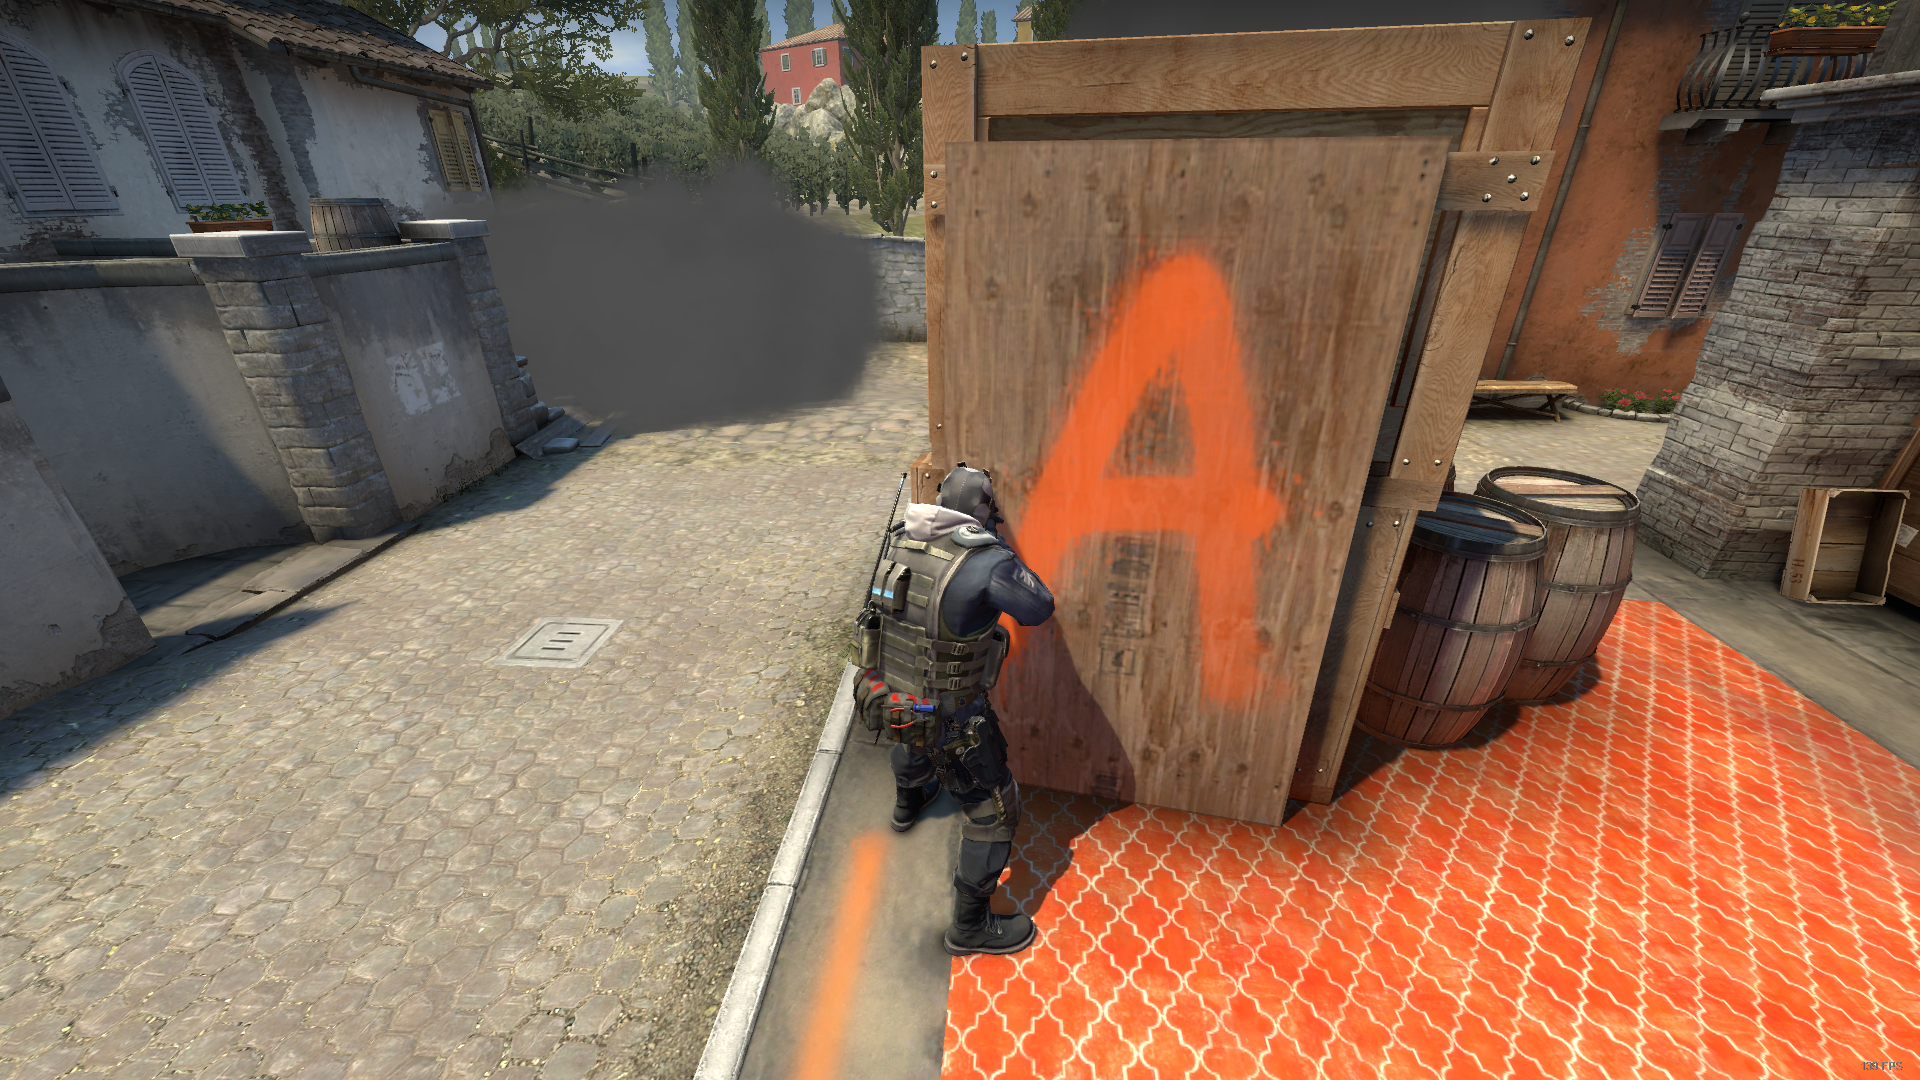ct: (862, 464, 1058, 967)
